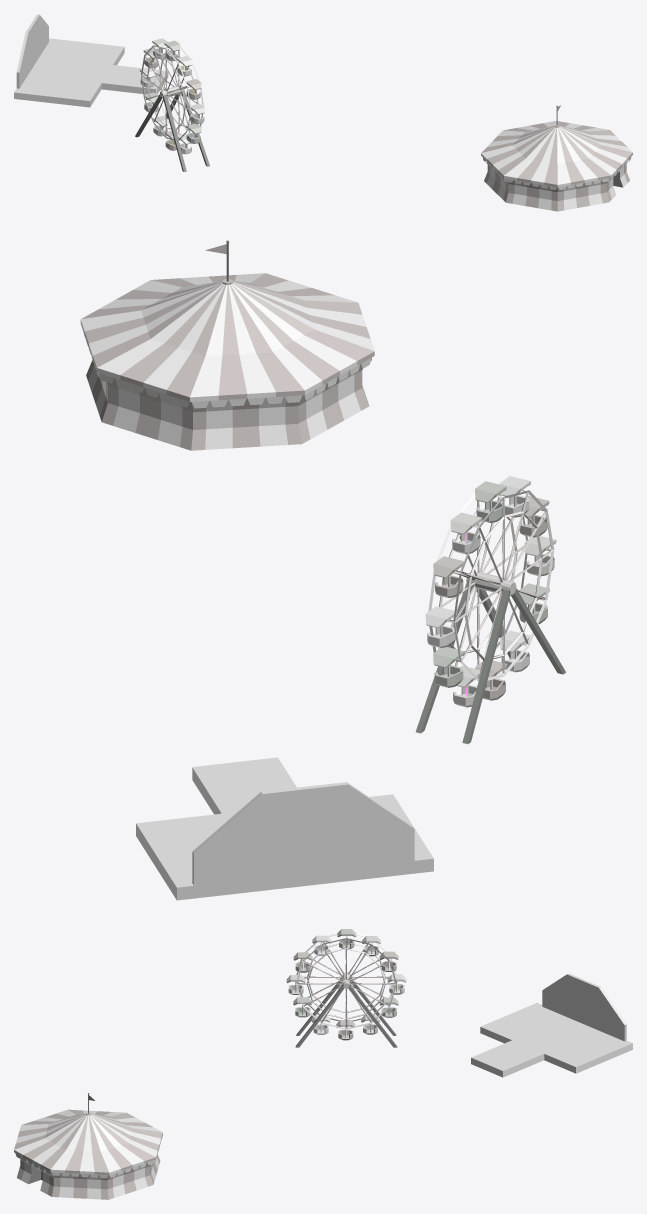
File: festival-buildings.glb
3 renders of one model, top to bottom at view 1: azimuth 30°, elevation 25°; view 2: azimuth 150°, elevation 25°; view 3: azimuth 270°, elevation 25°, orthographic. The views are drawn at different scales.
Parts seen in each view (by area): view 1: tent-circus-big.001, stage.001, ferris-wheel.001; view 2: tent-circus-big.001, stage.001, ferris-wheel.001; view 3: tent-circus-big.001, stage.001, ferris-wheel.001.
Boxes of the visible parts, x1,y1,x2,y2 form: tent-circus-big.001: (481,105,632,211); stage.001: (14,14,168,107); ferris-wheel.001: (135,38,209,171); tent-circus-big.001: (80,240,374,450); stage.001: (136,757,433,900); ferris-wheel.001: (415,476,565,743); tent-circus-big.001: (14,1093,162,1199); stage.001: (471,973,632,1077); ferris-wheel.001: (286,929,406,1047).
Size of the model in its own units: 52.29 by 13.93 by 71.15.
2 materials, 2 textured.
